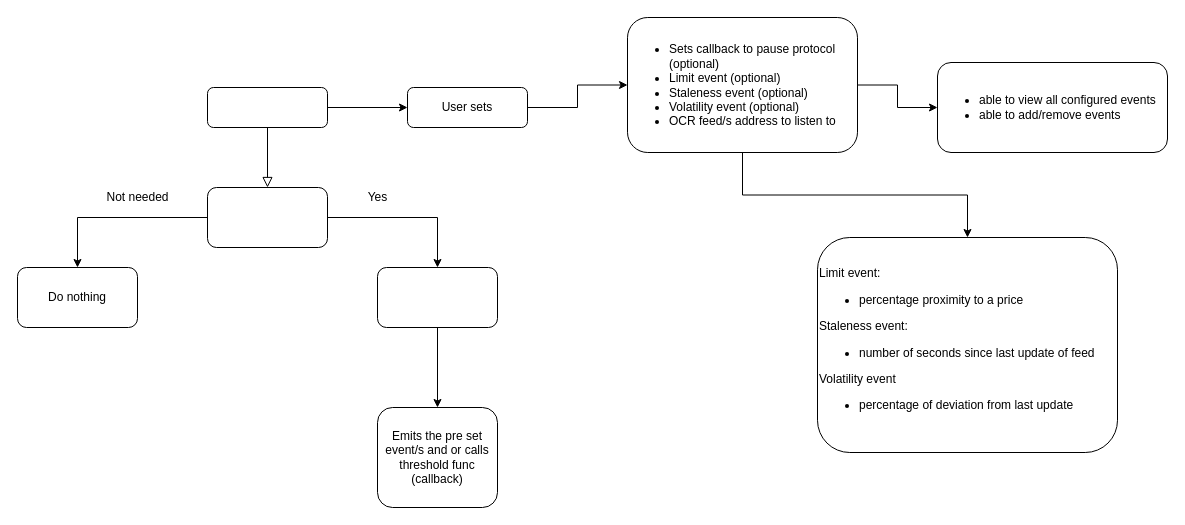
The diagram is 1185 pixels wide and 525 high, and some of its shapes have lost their labels. The centre of each missing label's shape, as x and y in pixels:
"Check Upkeep checks OCR feed against pre set events" belongs at (267,217).
"Deploy Contract" belongs at (267,107).
"Perform Upkeep" belongs at (437,297).
